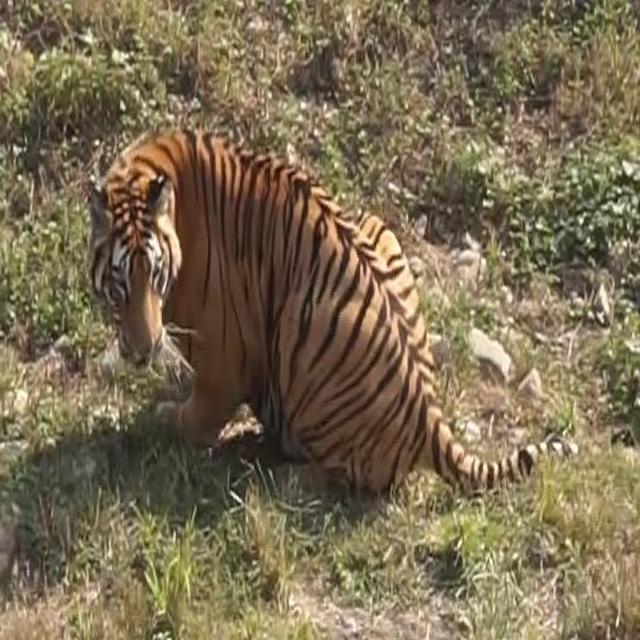tiger: (66, 116, 586, 520)
